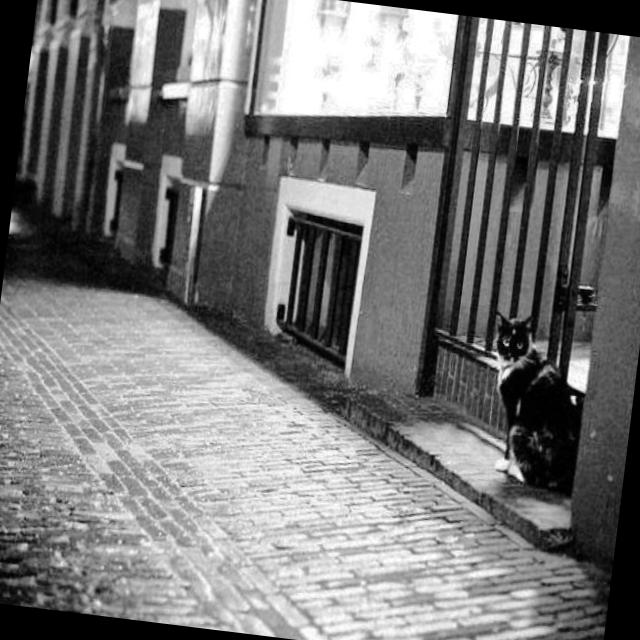Cat: (452, 298, 595, 517)
